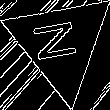N_E: (33, 19, 88, 68)
